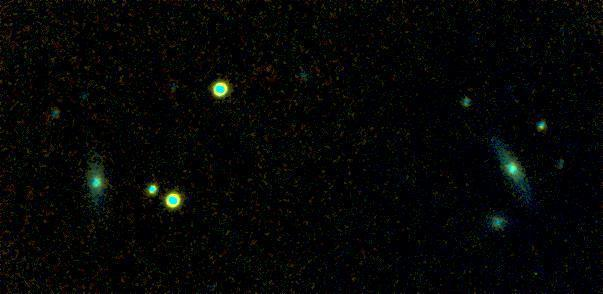star: (524, 256, 554, 286)
